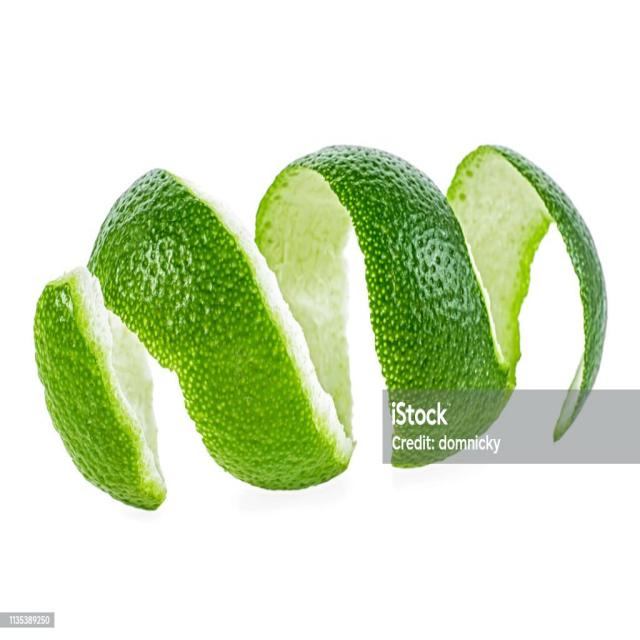Organik: (36, 140, 612, 508)
